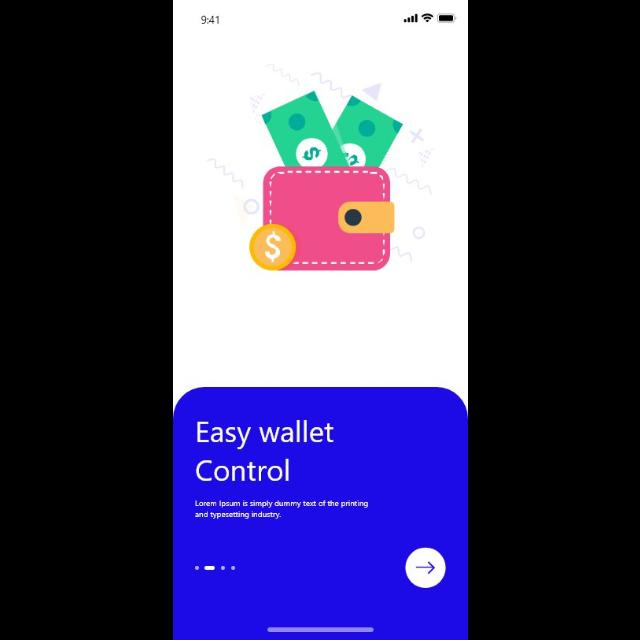icon: (405, 548, 445, 588)
image: (205, 64, 432, 272)
pageindicator: (194, 566, 236, 570)
text: (195, 420, 333, 482), (194, 500, 368, 520)
uppertaskbar: (200, 13, 456, 24)
